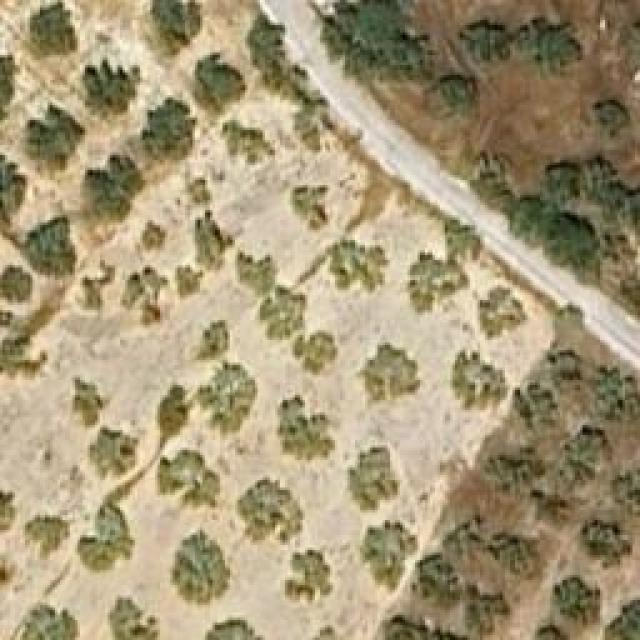Tree: (312, 0, 430, 75), (245, 15, 309, 102), (15, 102, 85, 180), (165, 530, 230, 608), (82, 57, 150, 125), (80, 155, 145, 225), (518, 13, 581, 81), (363, 335, 423, 403), (448, 347, 508, 415), (580, 150, 639, 219), (277, 392, 335, 460), (235, 482, 298, 540), (143, 98, 198, 163), (158, 450, 218, 508), (145, 0, 203, 58), (193, 54, 248, 115), (345, 448, 398, 511), (360, 520, 410, 585), (455, 18, 517, 70), (25, 218, 75, 281), (202, 365, 250, 430), (408, 253, 458, 313), (120, 268, 168, 328), (438, 75, 501, 120), (587, 367, 640, 420), (485, 445, 544, 492), (88, 425, 138, 480), (292, 97, 338, 156), (285, 550, 335, 603), (550, 575, 600, 628), (30, 3, 78, 58), (460, 585, 510, 635), (217, 123, 275, 166), (327, 245, 385, 288), (515, 190, 559, 245), (58, 375, 103, 428), (548, 213, 590, 269), (415, 555, 461, 606), (20, 602, 80, 640), (23, 518, 76, 561), (108, 595, 158, 640), (195, 212, 233, 270), (590, 597, 640, 640), (563, 430, 606, 480), (85, 508, 123, 563), (155, 383, 193, 438), (478, 290, 521, 338), (0, 38, 20, 141), (0, 150, 28, 223), (580, 520, 625, 565), (513, 378, 556, 425), (263, 287, 303, 335), (545, 343, 587, 385), (593, 95, 633, 138), (292, 185, 330, 230), (490, 537, 535, 575), (448, 520, 495, 556), (545, 152, 579, 198), (202, 617, 265, 640), (610, 470, 640, 518), (193, 320, 228, 360), (295, 335, 335, 370), (0, 482, 22, 535), (0, 265, 30, 303), (175, 268, 203, 301), (188, 177, 213, 205), (143, 223, 166, 253), (0, 550, 15, 593), (313, 625, 346, 640), (535, 625, 565, 640)
